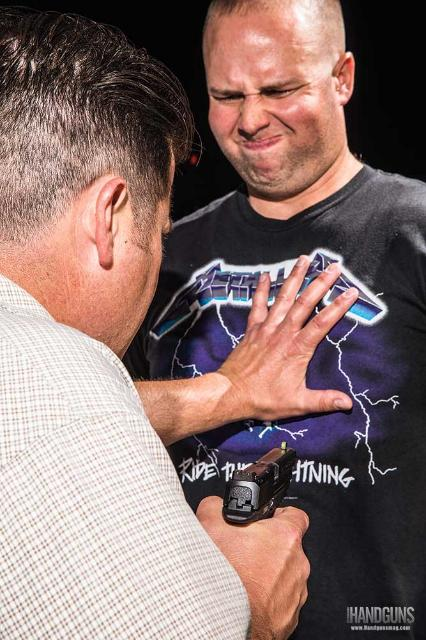handgun: (219, 437, 304, 553)
